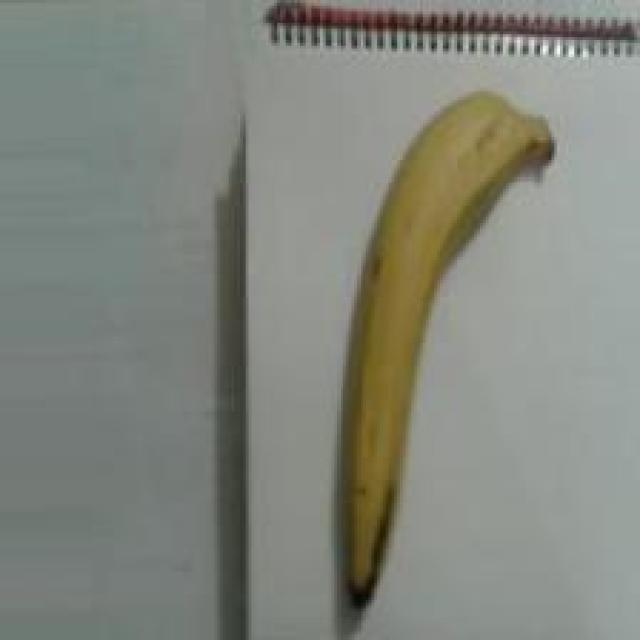banana: (255, 49, 572, 622)
